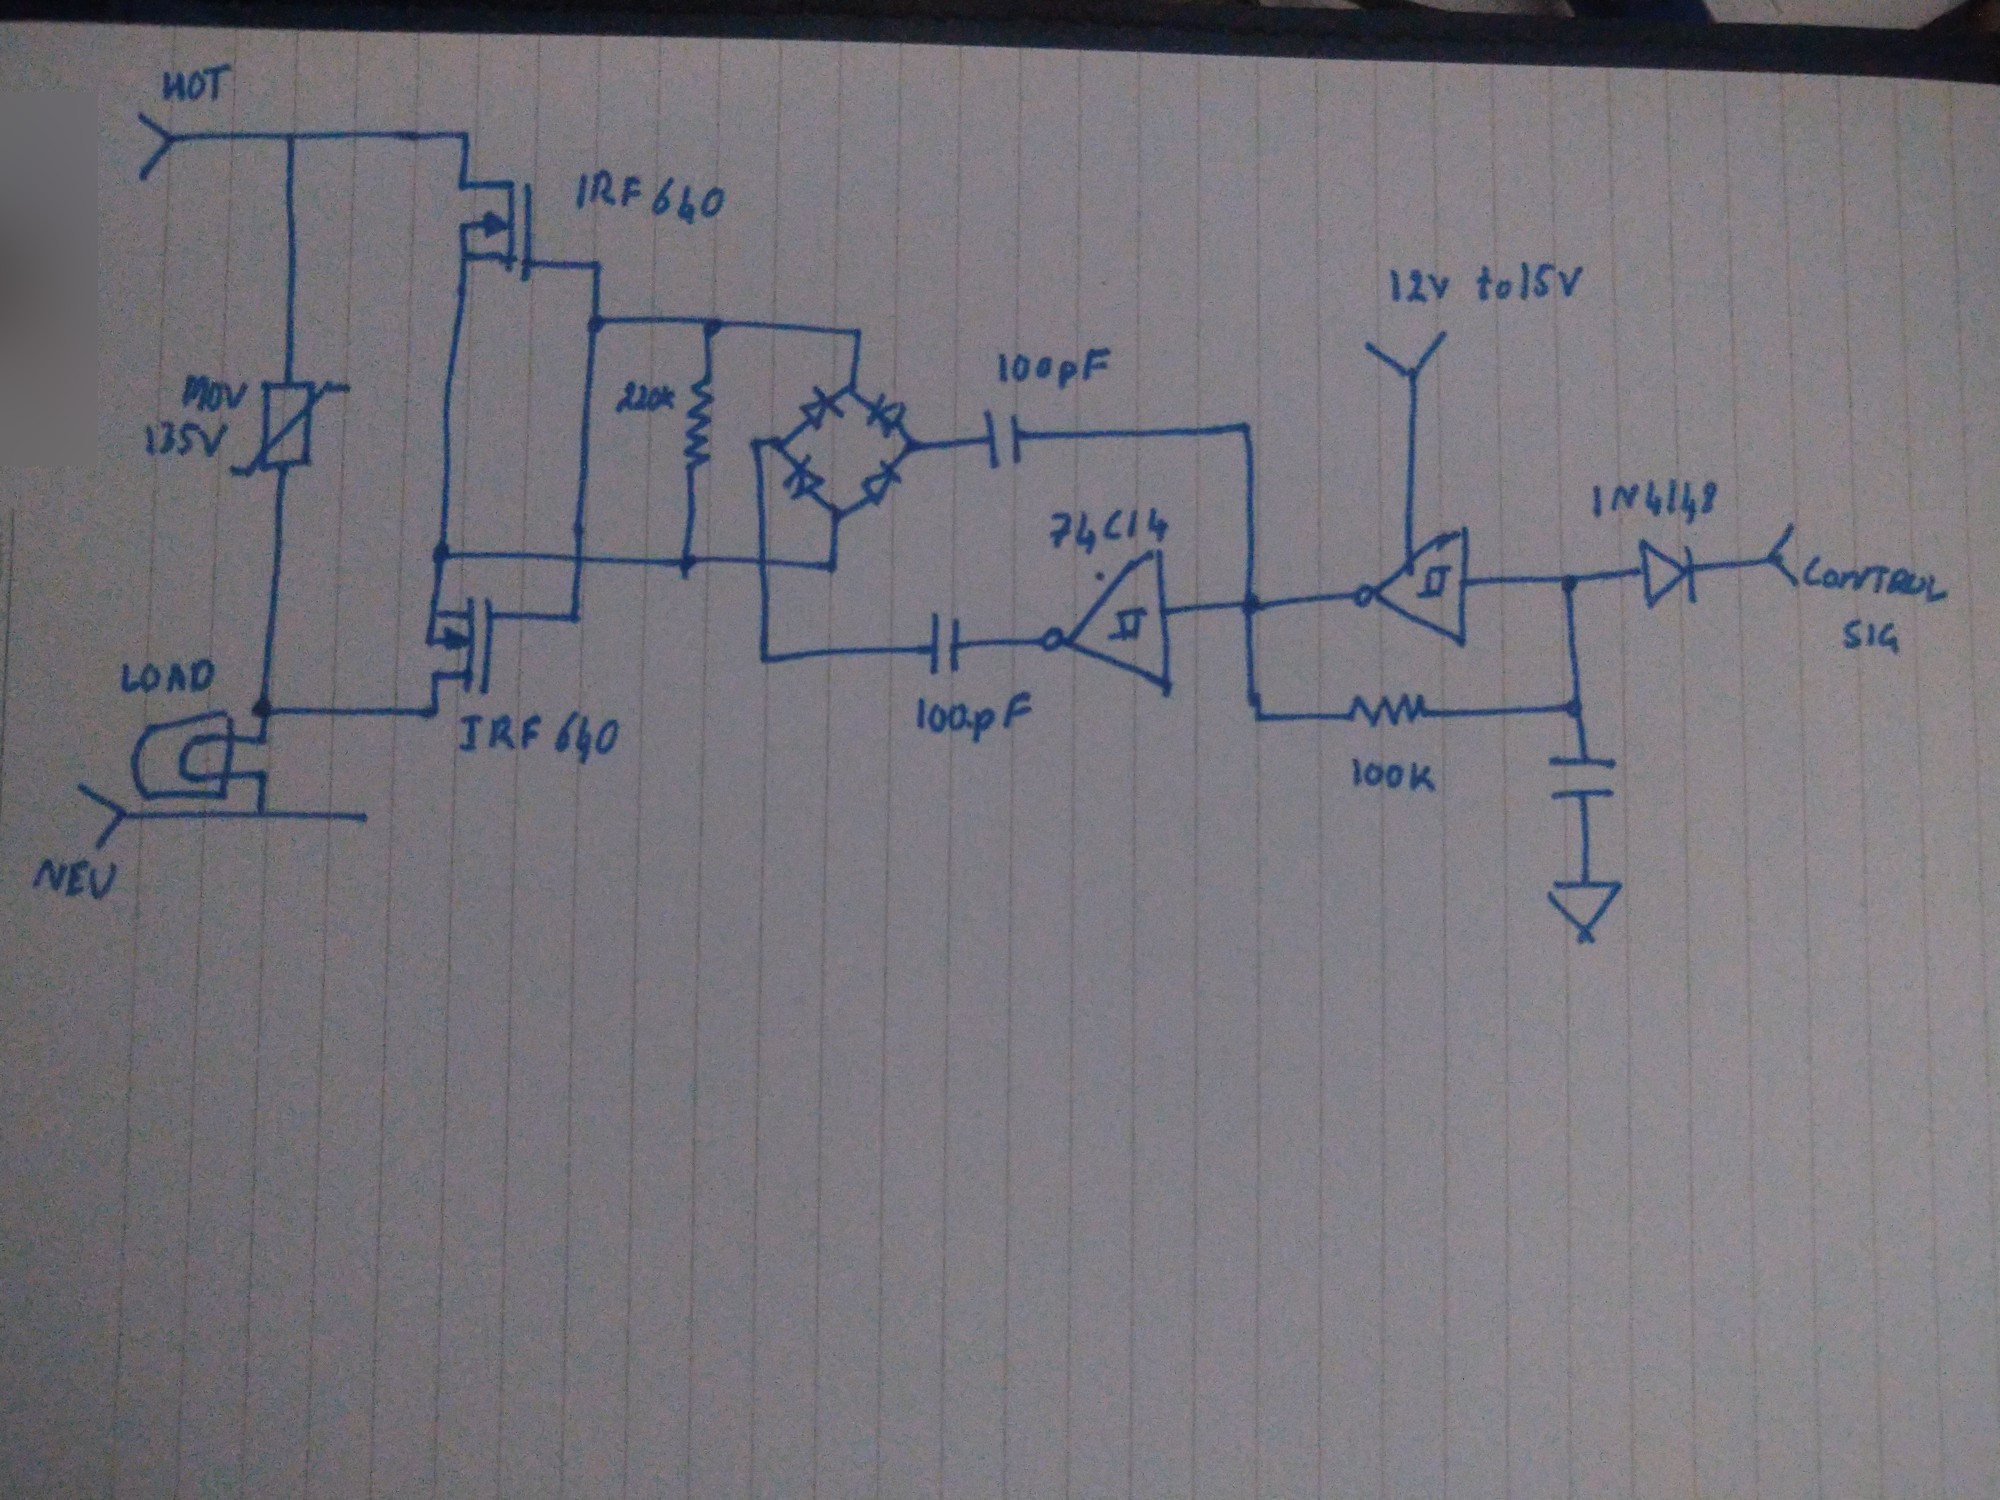capacitor.unpolarized: (1545, 748, 1620, 808), (975, 402, 1031, 473), (918, 608, 972, 681)
crossover: (748, 548, 776, 572), (564, 547, 592, 570)
diode: (1631, 536, 1710, 610), (783, 454, 825, 501), (865, 392, 907, 440), (861, 459, 902, 507), (797, 386, 841, 429)
gnd: (1542, 878, 1630, 945)
junction: (668, 548, 702, 581), (694, 309, 724, 342), (427, 536, 457, 567), (1235, 589, 1266, 619), (1554, 567, 1583, 599), (1559, 692, 1591, 720), (827, 496, 852, 528), (583, 309, 609, 336), (1244, 703, 1272, 728), (452, 123, 480, 148), (561, 603, 587, 629), (249, 696, 276, 722), (753, 648, 780, 671), (819, 555, 844, 578), (770, 430, 794, 455), (839, 377, 863, 402), (898, 436, 923, 459), (276, 128, 302, 148), (420, 700, 444, 722), (1236, 414, 1258, 438), (584, 254, 609, 274), (847, 321, 869, 343), (354, 804, 373, 829), (250, 728, 272, 748), (252, 763, 272, 785), (250, 800, 269, 822), (743, 433, 764, 452)
lamp: (131, 707, 238, 802)
resistor: (1340, 692, 1431, 733), (682, 372, 717, 473)
schmitt_trigger: (1038, 548, 1176, 700), (1350, 528, 1474, 651)
terminal: (1361, 328, 1450, 381), (72, 782, 128, 849), (128, 109, 176, 184), (1762, 518, 1803, 589)
text: (1387, 258, 1587, 307), (457, 709, 622, 766), (573, 167, 724, 227), (1802, 555, 1946, 603), (913, 690, 1033, 744), (1587, 477, 1720, 525), (1044, 507, 1169, 555), (994, 347, 1112, 391), (115, 657, 216, 696), (27, 857, 120, 900), (1350, 755, 1443, 796), (154, 58, 235, 106), (142, 418, 228, 460), (176, 370, 246, 414), (1839, 614, 1902, 659), (613, 380, 679, 416)
transistor: (446, 173, 540, 287), (420, 592, 509, 698)
varistor: (228, 377, 353, 481)
